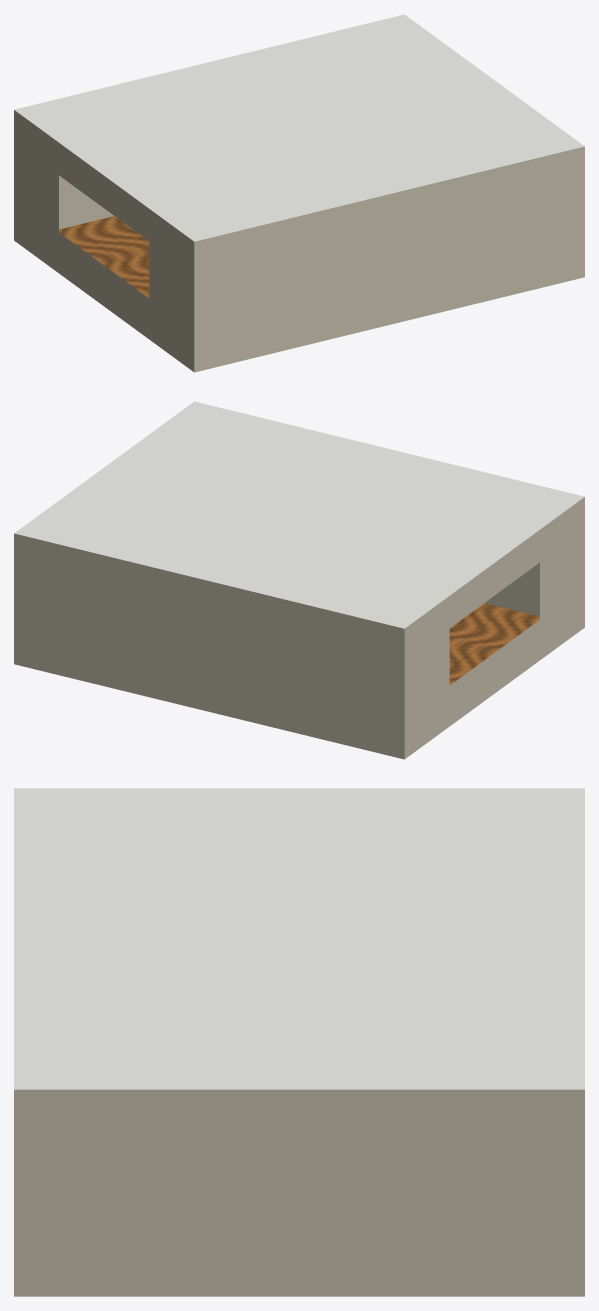
File: classroom.obj
The picture shows the model from 3 angles, top to bottom: view 1: azimuth 30°, elevation 25°; view 2: azimuth 150°, elevation 25°; view 3: azimuth 270°, elevation 25°; orthographic projection. The views are drawn at different scales.
Parts seen in each view (by area): view 1: part1, part3, part6, part5, part7, part0, part8, part2; view 2: part1, part2, part5, part6, part7, part0, part8, part3; view 3: part1, part4.
Part boxes in pixels (<box>): part1: <box>14,14,584,241</box>; part3: <box>194,146,584,372</box>; part6: <box>149,209,194,371</box>; part5: <box>14,110,58,272</box>; part7: <box>59,233,149,338</box>; part0: <box>59,216,149,298</box>; part8: <box>59,143,149,240</box>; part2: <box>59,175,113,229</box>; part1: <box>14,401,584,628</box>; part2: <box>14,533,404,759</box>; part5: <box>404,596,449,758</box>; part6: <box>540,497,584,659</box>; part7: <box>449,620,539,725</box>; part0: <box>449,603,539,685</box>; part8: <box>449,530,539,627</box>; part3: <box>485,562,539,616</box>; part1: <box>14,788,584,1089</box>; part4: <box>14,1089,584,1296</box>.
Bounding box in the file's own units: 10 × 3.2 × 8.
Materials: 6 (3 with a texture image).
